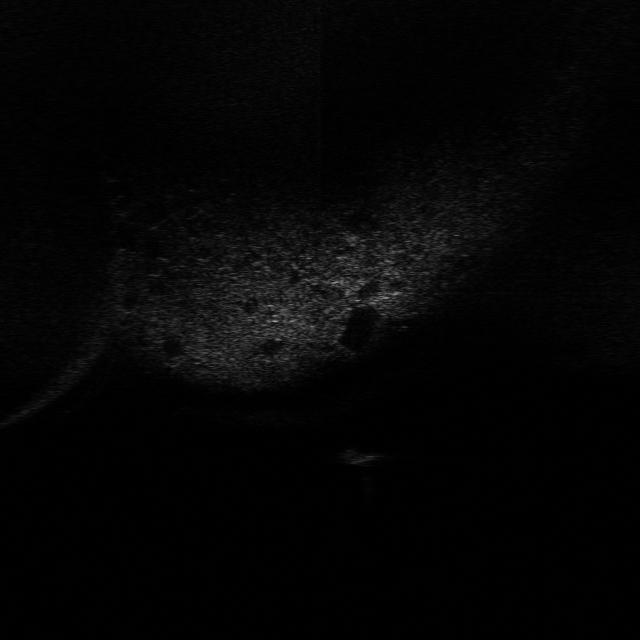cube: (333, 443, 392, 473)
